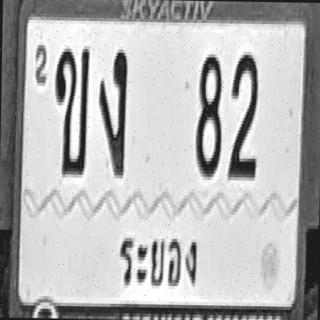A02: (53, 45, 89, 174)
A07: (97, 48, 128, 177)
N02: (227, 51, 258, 178)
N08: (195, 51, 222, 177)
P53: (113, 208, 201, 296)
